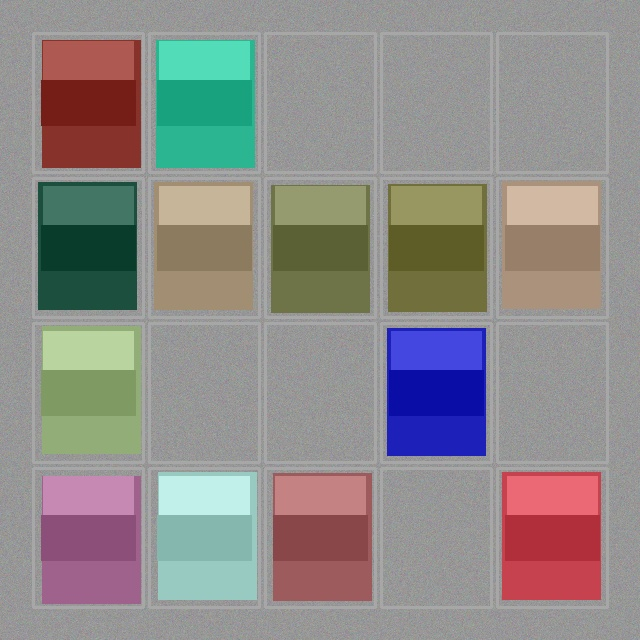space-empty: (267, 35, 373, 170), (383, 35, 489, 170), (499, 35, 605, 170), (151, 325, 257, 460), (267, 325, 373, 460), (499, 325, 605, 460), (383, 470, 489, 605)
space-occupied: (35, 35, 141, 170), (151, 35, 257, 170), (35, 180, 141, 315), (151, 180, 257, 315), (267, 180, 373, 315), (383, 180, 489, 315), (499, 180, 605, 315), (35, 325, 141, 460), (383, 325, 489, 460), (35, 470, 141, 605), (151, 470, 257, 605), (267, 470, 373, 605), (499, 470, 605, 605)
